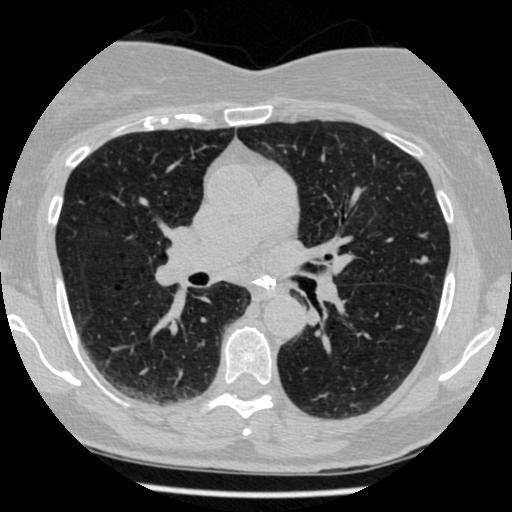nodule: (418, 253, 430, 265)
